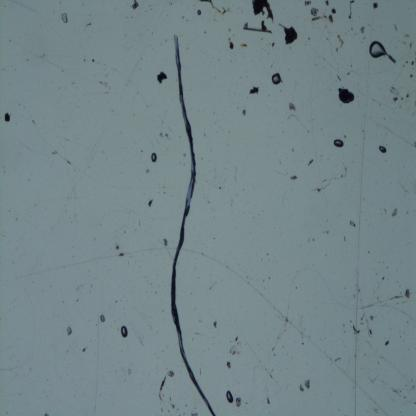Air bubble: (367, 38, 387, 60), (331, 137, 344, 149), (149, 149, 159, 163), (271, 71, 281, 85), (120, 324, 130, 338), (226, 389, 234, 404), (378, 144, 388, 155), (199, 0, 212, 3), (196, 10, 202, 16)
Background material: (252, 0, 274, 22), (278, 23, 298, 45), (242, 20, 272, 34), (336, 86, 356, 106), (312, 176, 334, 193), (334, 166, 350, 180), (158, 375, 166, 402), (229, 341, 243, 355), (399, 179, 409, 196), (156, 71, 168, 83), (391, 386, 402, 397), (348, 0, 354, 20), (212, 0, 221, 13), (336, 35, 344, 49), (287, 101, 297, 112), (249, 85, 259, 95), (390, 86, 400, 96), (351, 324, 361, 333), (265, 371, 274, 380), (283, 316, 291, 326), (388, 54, 396, 64), (65, 326, 73, 336), (228, 37, 234, 50), (61, 13, 68, 24), (311, 7, 319, 16), (311, 15, 322, 21), (167, 370, 175, 378), (304, 379, 310, 389), (4, 112, 10, 122), (349, 220, 356, 228), (328, 14, 334, 23), (289, 174, 298, 180), (148, 198, 154, 207), (391, 208, 397, 217), (236, 397, 241, 407), (278, 172, 288, 177), (405, 288, 410, 298), (372, 406, 378, 414), (99, 80, 107, 86), (308, 158, 314, 166), (304, 0, 312, 6), (336, 73, 342, 81), (226, 362, 232, 370), (299, 383, 304, 392), (100, 316, 106, 323), (370, 377, 376, 384), (163, 238, 168, 246), (409, 40, 414, 48), (360, 25, 365, 33), (242, 108, 247, 116), (393, 295, 403, 299), (405, 90, 410, 98), (226, 7, 232, 13), (392, 96, 398, 102), (335, 356, 341, 362), (222, 6, 226, 15), (165, 132, 170, 139), (118, 252, 125, 257), (373, 2, 378, 9), (213, 321, 218, 328), (266, 398, 271, 405), (331, 7, 336, 14), (360, 312, 364, 320), (241, 43, 247, 48), (170, 403, 175, 409), (325, 0, 330, 6), (86, 22, 92, 27), (160, 407, 164, 414), (137, 219, 141, 226), (270, 61, 274, 68), (404, 34, 411, 38), (159, 132, 163, 139), (191, 412, 198, 416), (325, 229, 330, 234), (369, 316, 374, 321), (67, 160, 72, 165), (139, 337, 143, 343), (181, 14, 185, 20), (385, 340, 389, 346), (394, 23, 397, 31), (52, 150, 58, 154), (306, 238, 310, 244), (149, 324, 153, 330), (168, 397, 172, 402), (410, 61, 414, 66), (145, 168, 149, 173), (271, 42, 275, 47), (82, 347, 86, 352), (194, 331, 199, 335), (44, 412, 49, 416), (410, 73, 414, 78), (128, 369, 131, 375), (384, 208, 387, 214), (184, 403, 188, 407), (412, 385, 416, 389), (360, 322, 364, 326), (199, 367, 201, 375), (402, 40, 406, 44), (414, 99, 416, 107), (346, 71, 350, 75), (245, 401, 249, 405), (218, 186, 222, 190), (272, 346, 275, 351), (116, 245, 119, 250), (273, 352, 276, 357), (235, 336, 238, 341), (414, 141, 416, 148), (301, 342, 305, 345), (363, 36, 366, 40), (413, 401, 416, 405), (92, 58, 95, 62), (277, 336, 280, 340), (344, 135, 347, 139), (353, 32, 356, 36), (165, 39, 169, 42), (361, 129, 364, 133), (358, 289, 361, 293), (324, 16, 327, 20), (347, 28, 350, 32), (401, 96, 404, 100), (76, 298, 79, 302), (198, 319, 202, 322), (94, 236, 96, 242), (274, 150, 277, 154), (326, 218, 329, 222), (344, 236, 346, 242), (228, 28, 231, 32), (322, 230, 325, 234), (32, 120, 35, 124), (268, 276, 271, 280), (262, 278, 265, 282), (182, 153, 186, 156), (410, 378, 412, 383), (300, 330, 302, 335), (292, 147, 294, 152), (414, 51, 416, 56), (91, 283, 93, 288), (381, 381, 384, 384), (134, 228, 137, 231), (165, 367, 168, 370), (403, 64, 406, 67), (228, 130, 231, 133), (115, 300, 118, 303), (381, 277, 384, 280), (239, 76, 242, 79), (272, 368, 275, 371), (125, 16, 128, 19), (406, 211, 409, 214), (203, 31, 206, 34), (312, 238, 315, 241), (183, 412, 185, 416), (117, 327, 119, 331), (344, 330, 346, 334), (405, 384, 407, 388), (162, 120, 164, 124), (336, 48, 338, 52), (162, 186, 166, 188), (340, 103, 342, 107), (124, 230, 126, 234), (343, 323, 345, 327), (329, 30, 331, 34), (261, 257, 263, 261), (364, 352, 366, 356), (236, 105, 238, 109), (268, 94, 270, 98), (295, 286, 297, 290), (260, 38, 264, 40), (280, 160, 282, 164), (308, 36, 310, 40), (375, 272, 377, 276), (226, 142, 228, 146), (377, 296, 379, 300), (262, 209, 264, 213), (46, 378, 48, 382), (140, 383, 142, 386), (169, 129, 172, 131), (155, 291, 157, 294), (164, 191, 166, 194), (415, 58, 416, 64), (308, 335, 310, 338), (404, 396, 406, 399), (178, 414, 181, 416), (140, 57, 143, 59), (327, 157, 329, 160), (350, 320, 352, 323), (367, 340, 369, 343), (150, 282, 152, 285), (152, 32, 154, 35), (144, 10, 147, 12), (378, 361, 380, 364), (267, 52, 269, 55), (61, 70, 64, 72), (183, 163, 185, 166), (383, 117, 385, 120), (83, 59, 86, 61), (345, 32, 347, 35), (344, 344, 346, 347), (177, 408, 179, 411), (168, 410, 170, 413), (323, 58, 325, 61), (350, 64, 352, 67), (89, 290, 91, 293), (161, 310, 164, 312), (26, 58, 29, 60), (324, 337, 326, 340), (399, 106, 401, 109), (213, 237, 215, 240), (363, 198, 365, 201), (243, 188, 245, 191), (367, 251, 370, 253), (264, 287, 266, 290), (267, 252, 269, 255), (376, 125, 379, 127), (325, 254, 327, 257), (186, 19, 188, 22), (386, 266, 388, 269), (400, 411, 402, 413), (120, 299, 122, 301), (284, 329, 286, 331), (320, 154, 322, 156), (361, 41, 363, 43), (109, 87, 111, 89), (170, 2, 172, 4), (352, 386, 354, 388), (301, 316, 303, 318), (127, 262, 129, 264), (149, 5, 151, 7), (351, 28, 353, 30), (406, 61, 408, 63), (194, 407, 196, 409), (30, 367, 31, 371), (212, 336, 214, 338), (326, 38, 328, 40), (378, 260, 380, 262), (141, 150, 143, 152), (320, 128, 322, 130), (382, 261, 384, 263), (247, 282, 249, 284), (202, 158, 204, 160), (6, 412, 8, 414), (379, 104, 381, 106), (246, 276, 248, 278), (204, 134, 206, 136), (373, 99, 375, 101), (308, 130, 309, 133), (408, 348, 409, 351), (218, 58, 219, 61), (84, 28, 85, 31), (400, 336, 401, 338), (106, 75, 107, 77), (143, 344, 144, 346), (170, 195, 172, 196), (131, 16, 132, 18), (397, 281, 398, 283), (380, 214, 382, 215), (382, 109, 384, 110), (155, 354, 156, 355), (44, 55, 45, 56)
Cotton: (169, 31, 214, 416)
Diatom: (132, 1, 139, 9)
Glass filter fibre: (362, 306, 372, 338)
